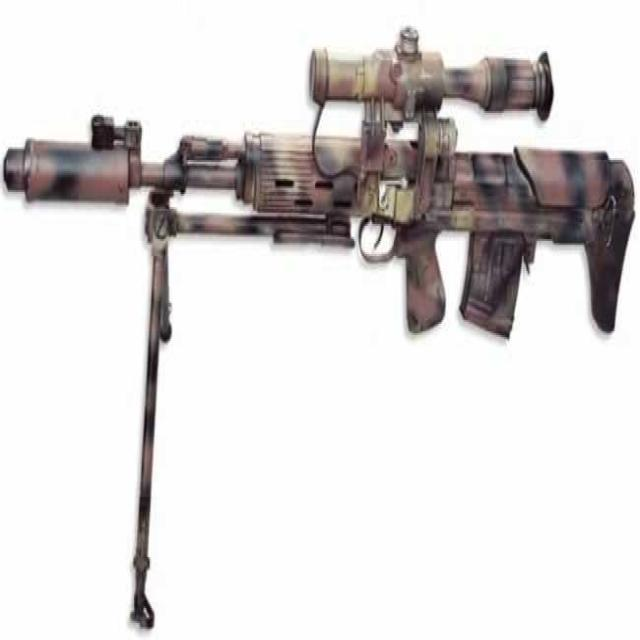heavyweapon: (1, 1, 630, 377)
